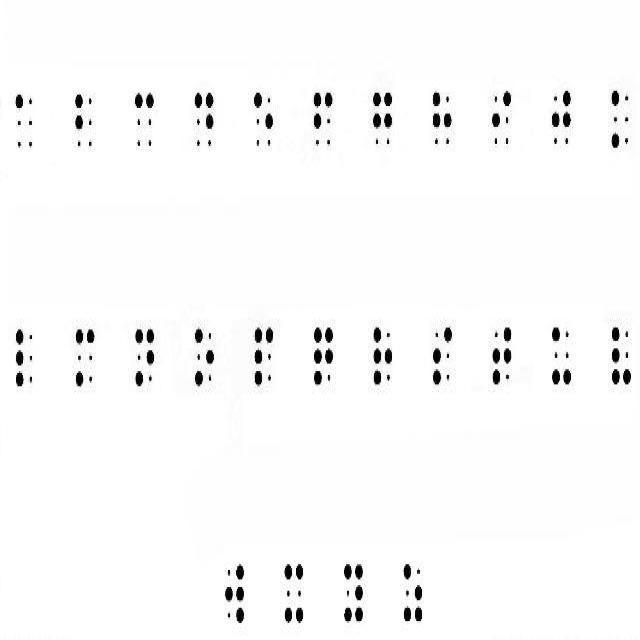braiile: (600, 313, 640, 391), (126, 83, 162, 163), (545, 81, 577, 158), (188, 83, 220, 159), (250, 320, 282, 396), (189, 315, 219, 393), (220, 554, 250, 632), (248, 84, 280, 156), (608, 78, 636, 160), (130, 317, 158, 399), (338, 554, 368, 628), (10, 89, 40, 161), (71, 320, 99, 396), (12, 319, 38, 397), (310, 85, 338, 157), (429, 317, 455, 391), (371, 314, 395, 394), (311, 320, 337, 392), (428, 88, 456, 154), (72, 86, 98, 156), (283, 548, 305, 630), (401, 554, 425, 628), (550, 320, 572, 392), (490, 87, 514, 152), (372, 87, 394, 152)
